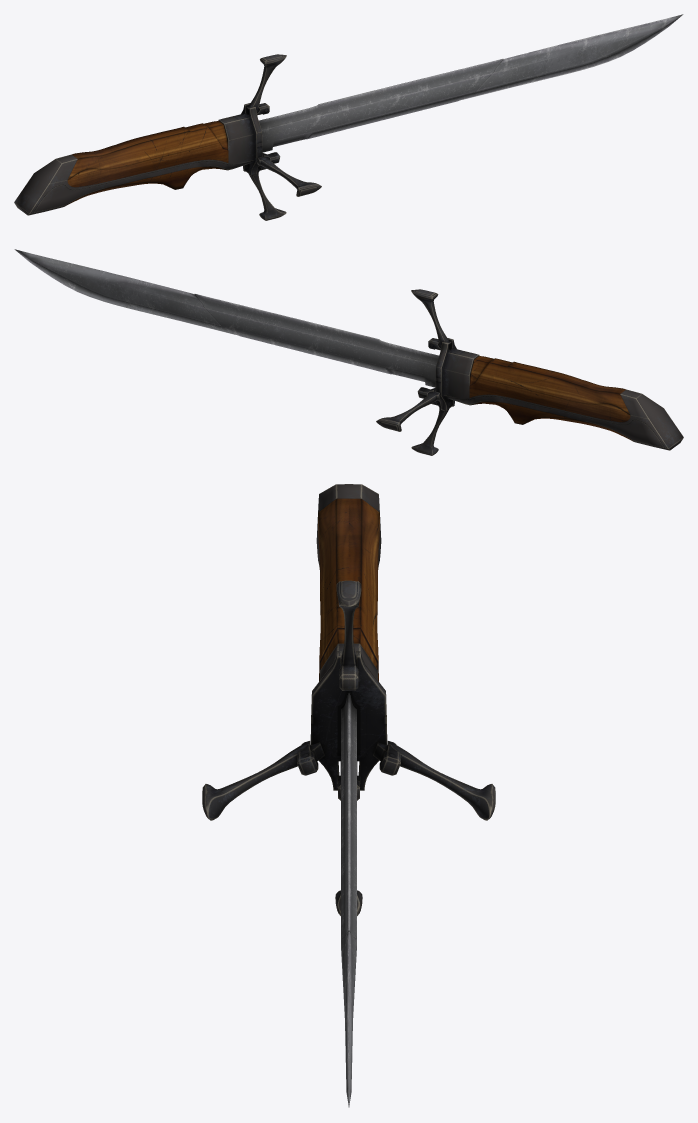
The model's file is Sword.fbx.
3 renders of one model, top to bottom at view 1: azimuth 30°, elevation 25°; view 2: azimuth 150°, elevation 25°; view 3: azimuth 270°, elevation 25°, orthographic. The views are drawn at different scales.
Parts seen in each view (by area): view 1: defaultMaterial.002; view 2: defaultMaterial.002; view 3: defaultMaterial.002.
Part boxes in pixels (x1,y1,x2,y2): defaultMaterial.002: [14, 14, 683, 220]; defaultMaterial.002: [14, 249, 683, 455]; defaultMaterial.002: [202, 484, 495, 1107].
Size of the model in its own units: 200 by 46.43 by 38.39.
